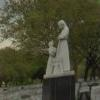Statue: (33, 10, 78, 81)
